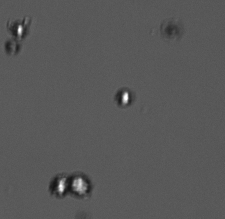Dead Cell: (5, 40, 20, 55)
Living Cell: (69, 173, 91, 198), (51, 175, 70, 199), (115, 88, 133, 107), (11, 23, 28, 38)
